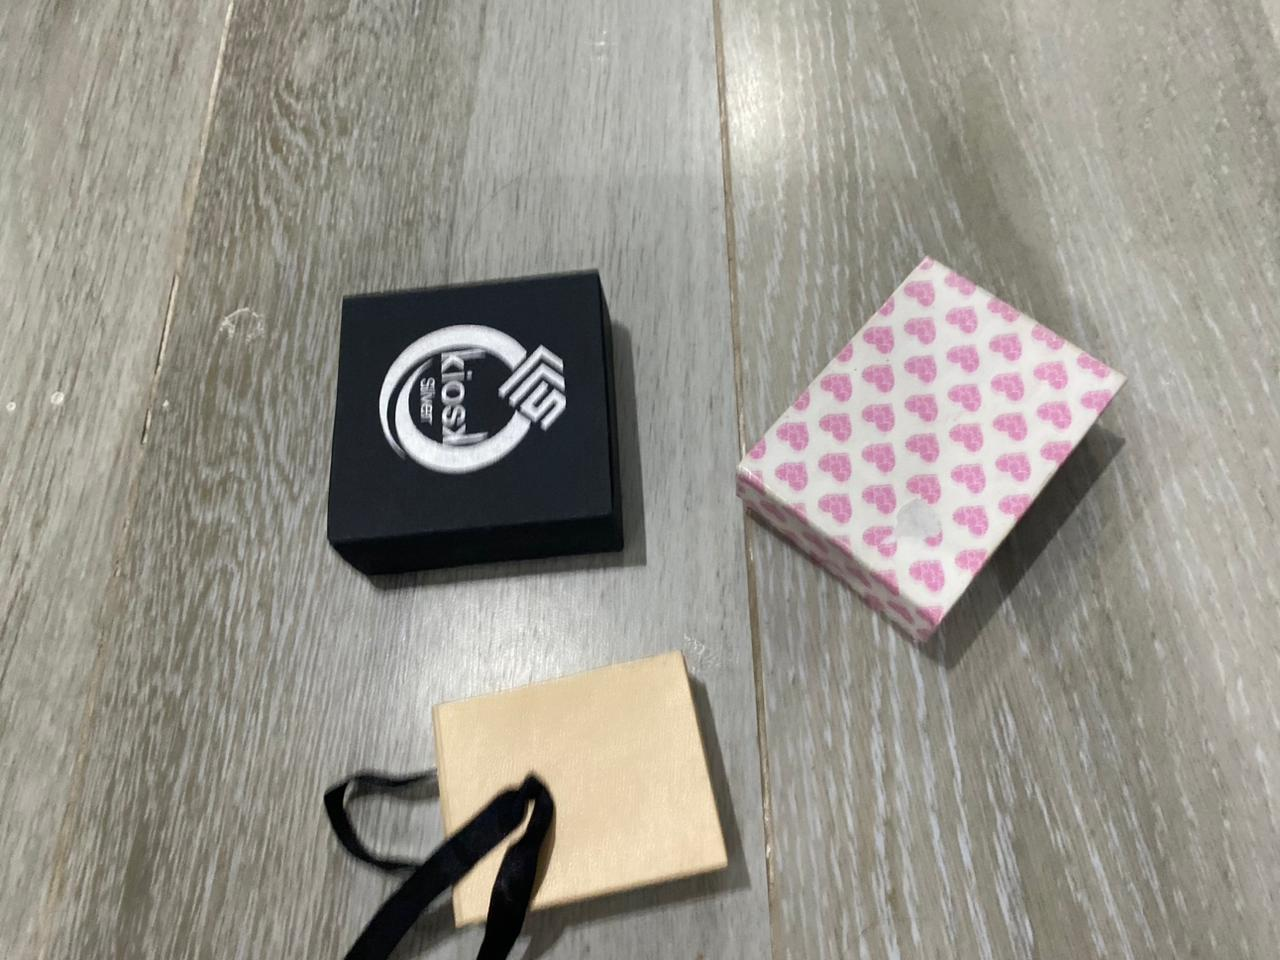Pink Box: (725, 256, 1131, 656)
Red Box: (324, 264, 631, 578)
Yellow Box: (427, 649, 734, 934)
